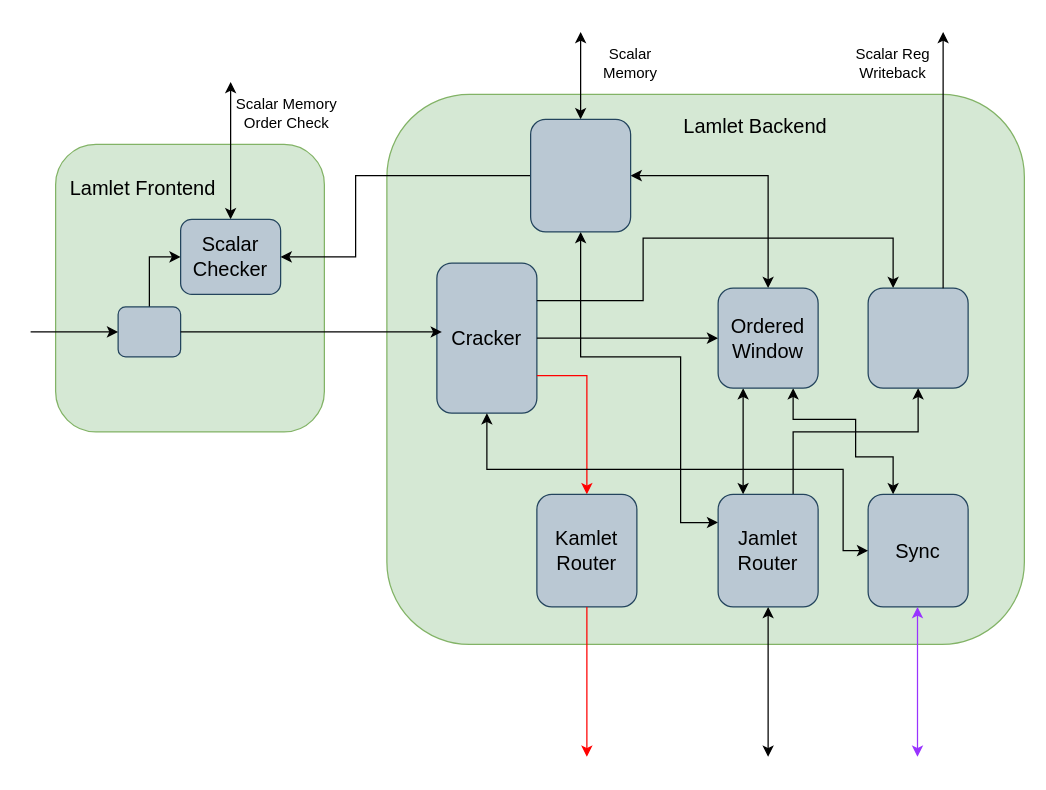
The diagram is 1046 pixels wide and 790 high, and some of its shapes have lost their labels. Here are the shapes that lost their labels. From the top down, the box of each, then its label:
(529, 118, 631, 232): Scalar Mem Interface
(117, 306, 181, 357): PFC
(867, 287, 968, 388): Waiting Table
